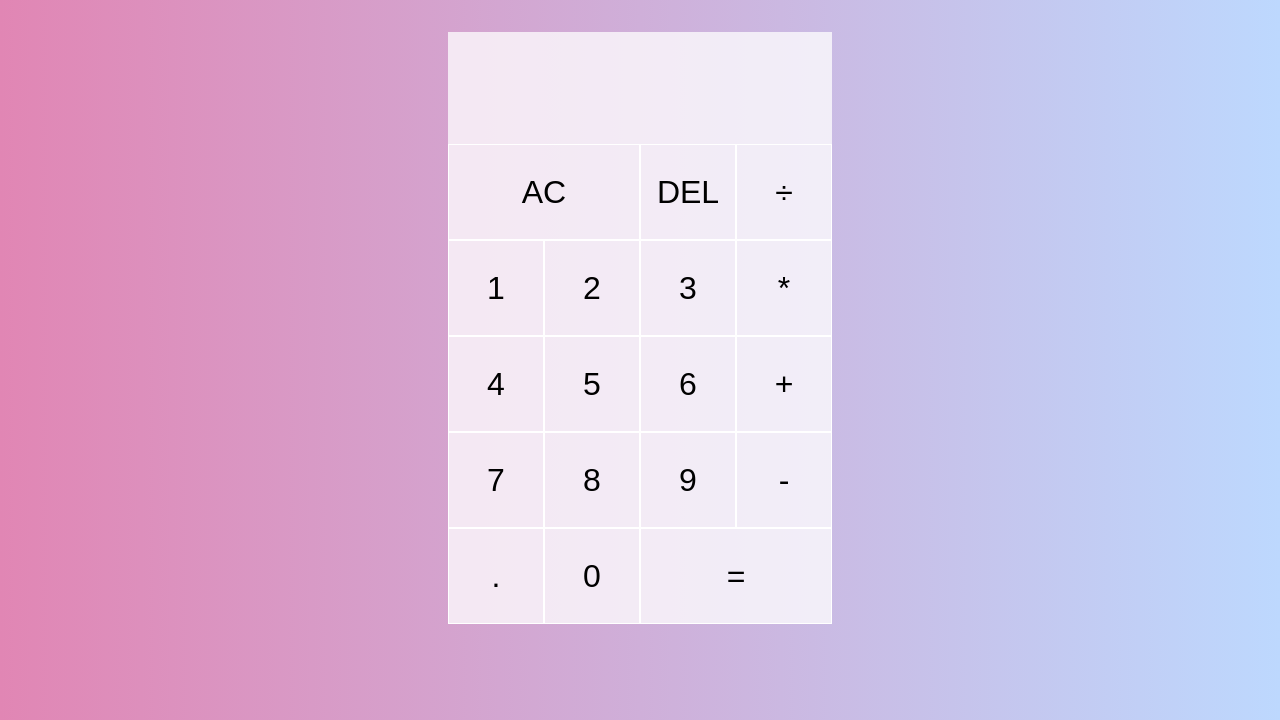
it: calculator › should subtract two numbers
Click the button "5": (592,384) [544,336,640,432]
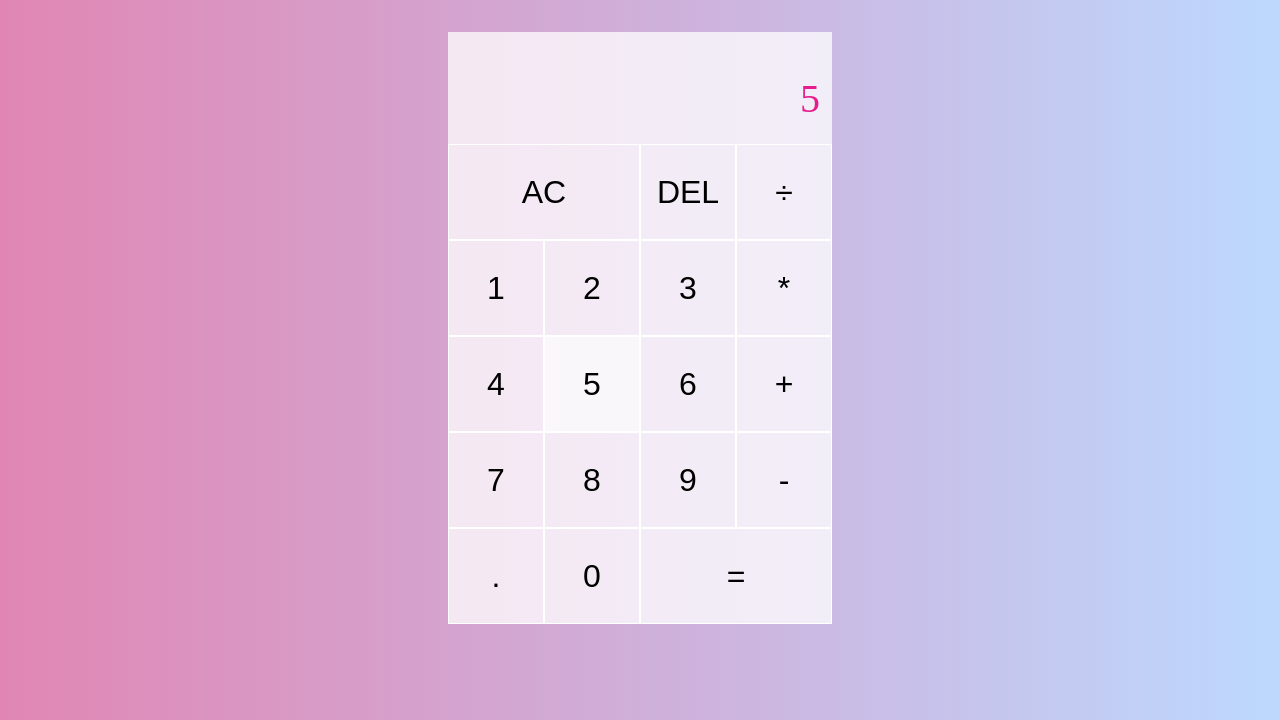
Click the button "-": (784,480) [736,432,832,528]
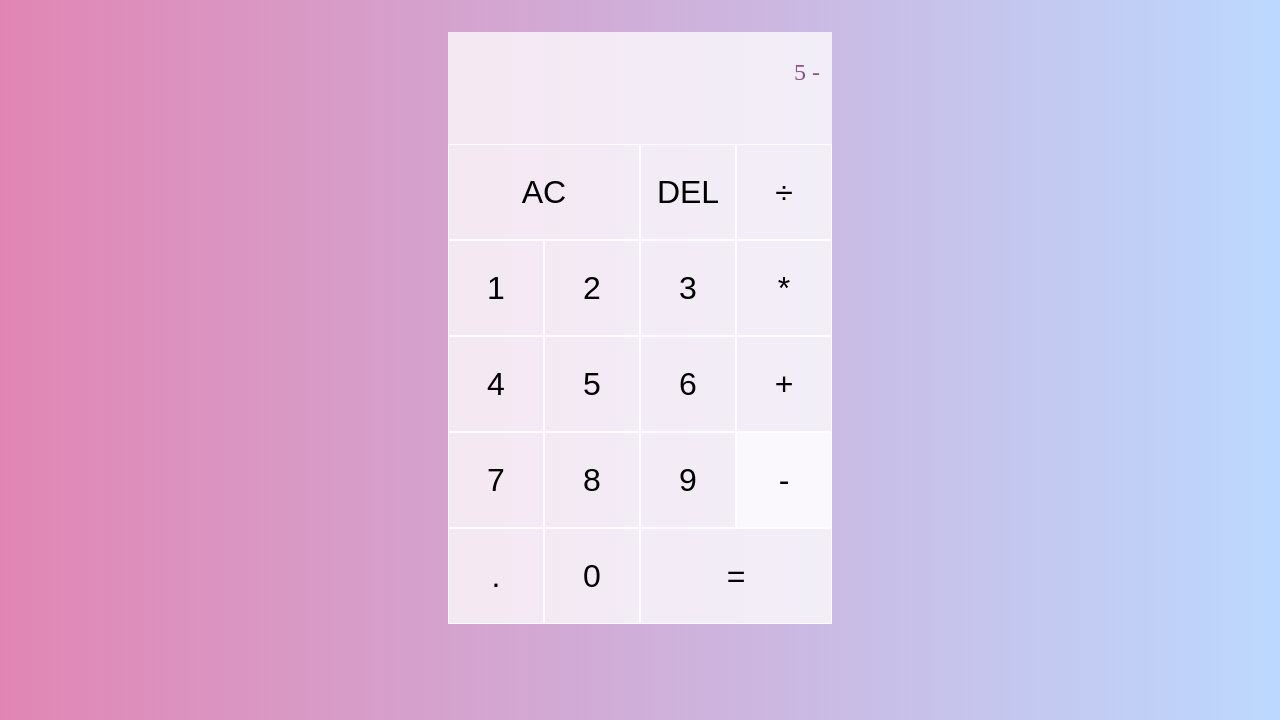
Click the button "3": (688,288) [640,240,736,336]
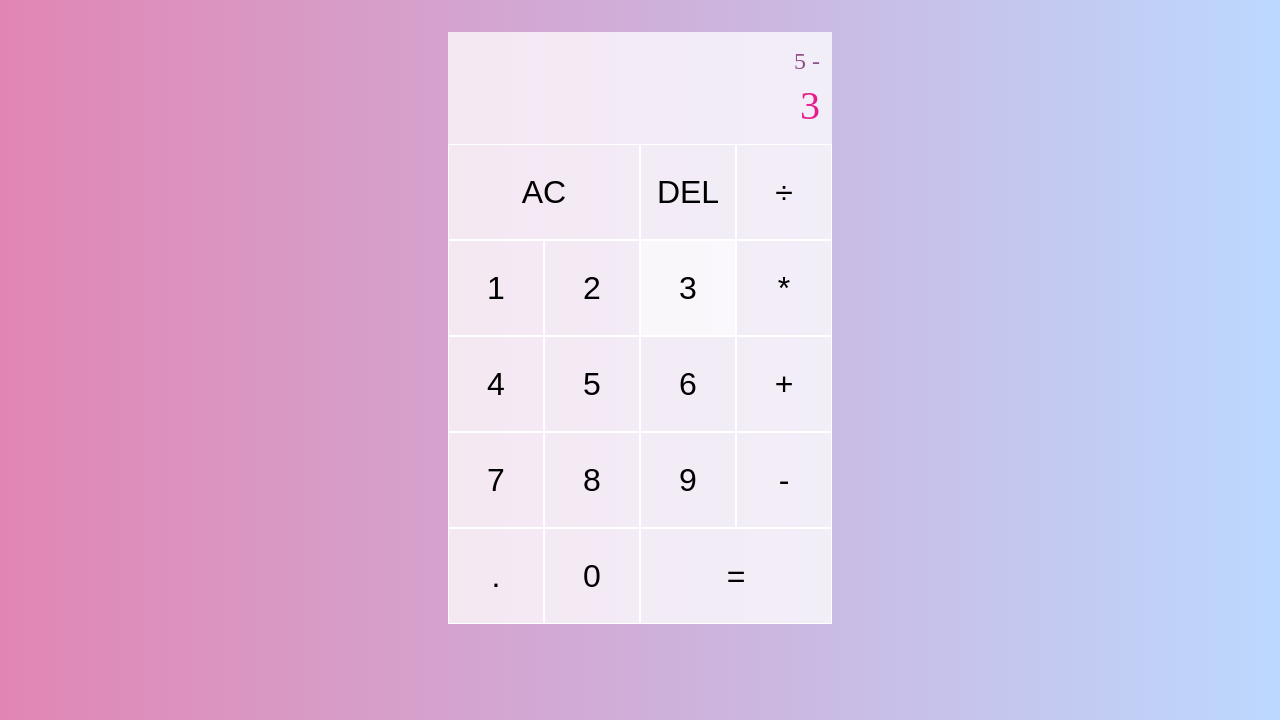
Click the button "=": (736,576) [640,528,832,624]
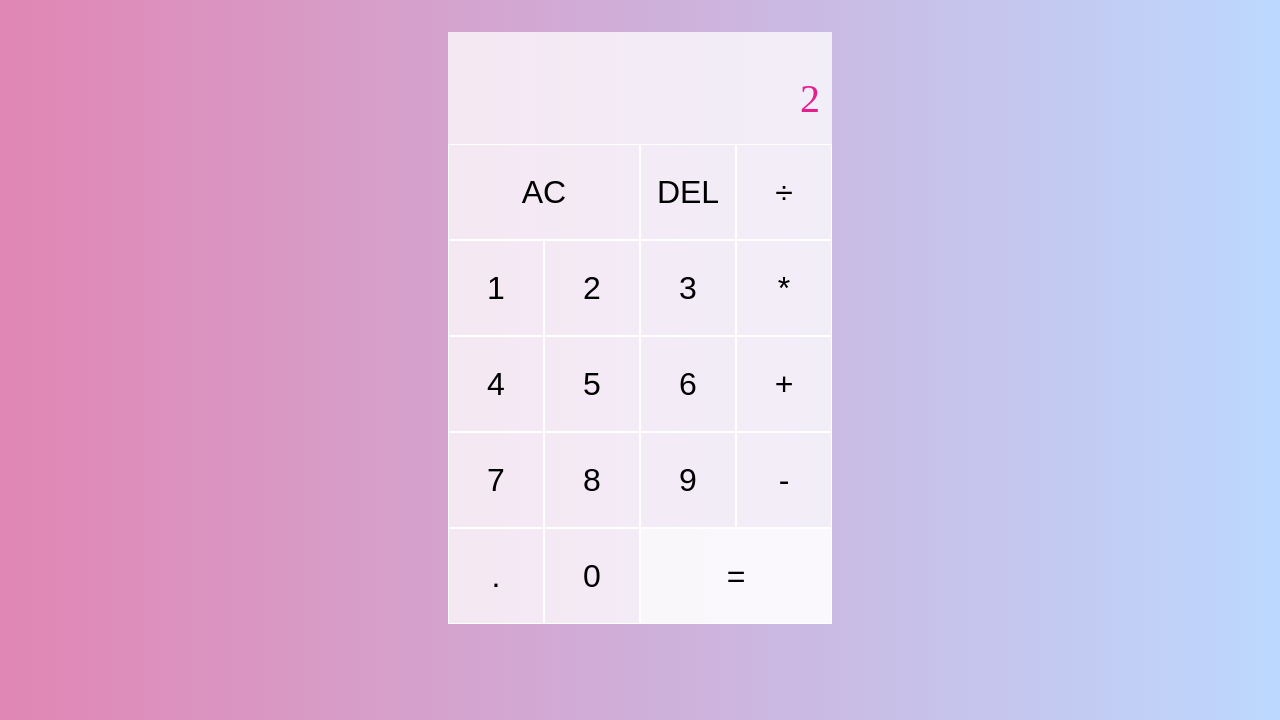
Expected: the text with id "current-operand" reads "2", [800,76,820,121]
